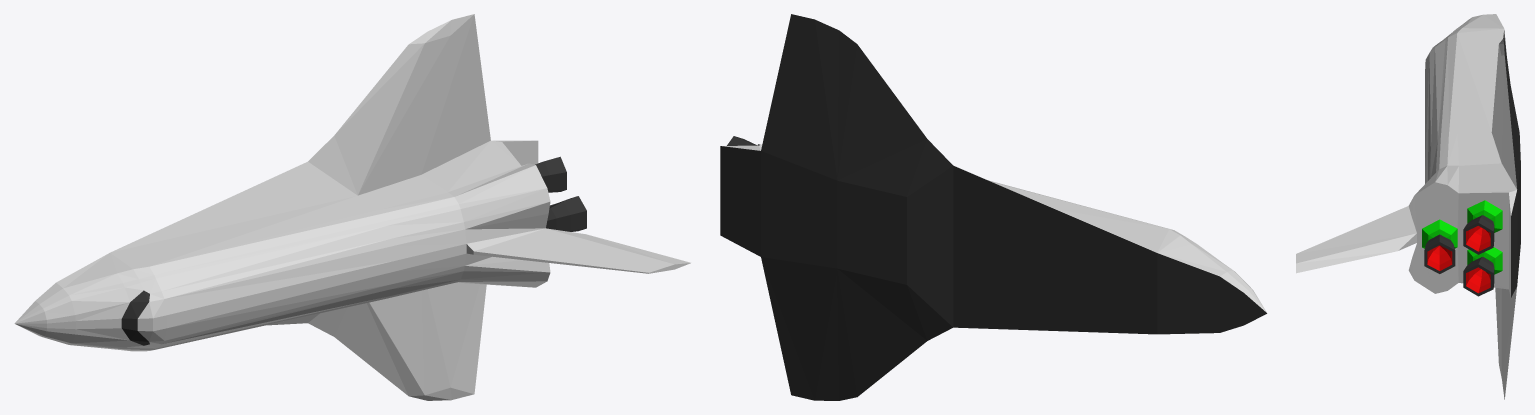
File: shuttle.obj
3 renders of one model, left to right at view 1: azimuth 30°, elevation 25°; view 2: azimuth 150°, elevation 25°; view 3: azimuth 270°, elevation 25°, orthographic. The views are drawn at different scales.
Parts seen in each view (by area): view 1: body, wings, tail, engout, windows, rearbody; view 2: tiles, body; view 3: body, rearbody, tail, wings, engmount, tiles, enginside, engrim, engout.
Boxes of the visible parts, x1,y1,x2,y2 form: body: (14,140,550,351); wings: (111,14,490,400); tail: (466,228,690,273); engout: (535,156,586,231); windows: (121,290,149,345); rearbody: (491,140,538,165); tiles: (720,14,1266,400); body: (988,180,1267,313); body: (1415,14,1516,194); rearbody: (1398,182,1516,297); tail: (1296,206,1416,273); wings: (1491,30,1516,399); engmount: (1422,200,1502,274); tiles: (1503,38,1520,297); enginside: (1427,226,1490,293); engrim: (1424,222,1493,296); engout: (1424,215,1494,287).
Size of the model in its own units: 14.69 by 9.36 by 5.51.
